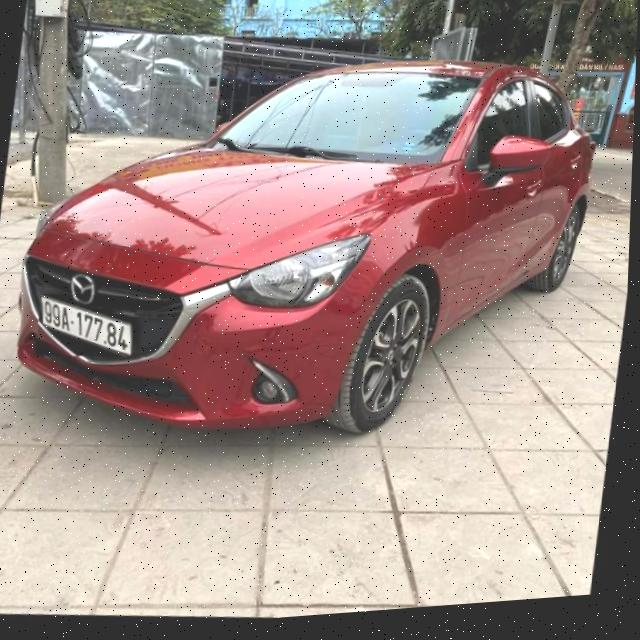car: (0, 16, 613, 469)
plate: (35, 286, 138, 365)
